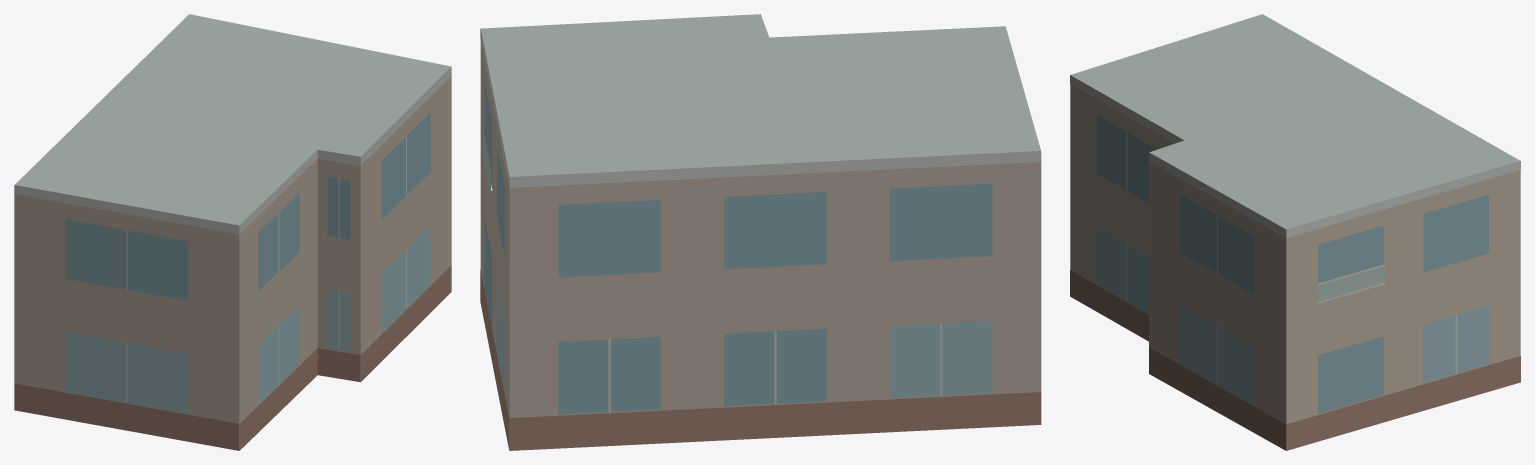
Rendered from survey-upis-32655588.glb.
The picture shows the model from 3 angles, left to right: view 1: azimuth 30°, elevation 25°; view 2: azimuth 150°, elevation 25°; view 3: azimuth 270°, elevation 25°; orthographic projection. The views are drawn at different scales.
Visible parts, largest first — view 1: survey-upis-32655588.tmp; view 2: survey-upis-32655588.tmp; view 3: survey-upis-32655588.tmp.
Part boxes in pixels (x1,y1,x2,y2): survey-upis-32655588.tmp: (14,14,451,450); survey-upis-32655588.tmp: (480,14,1041,450); survey-upis-32655588.tmp: (1070,14,1520,450).
Bounding box in the file's own units: 12.73 × 6.1 × 11.26.
